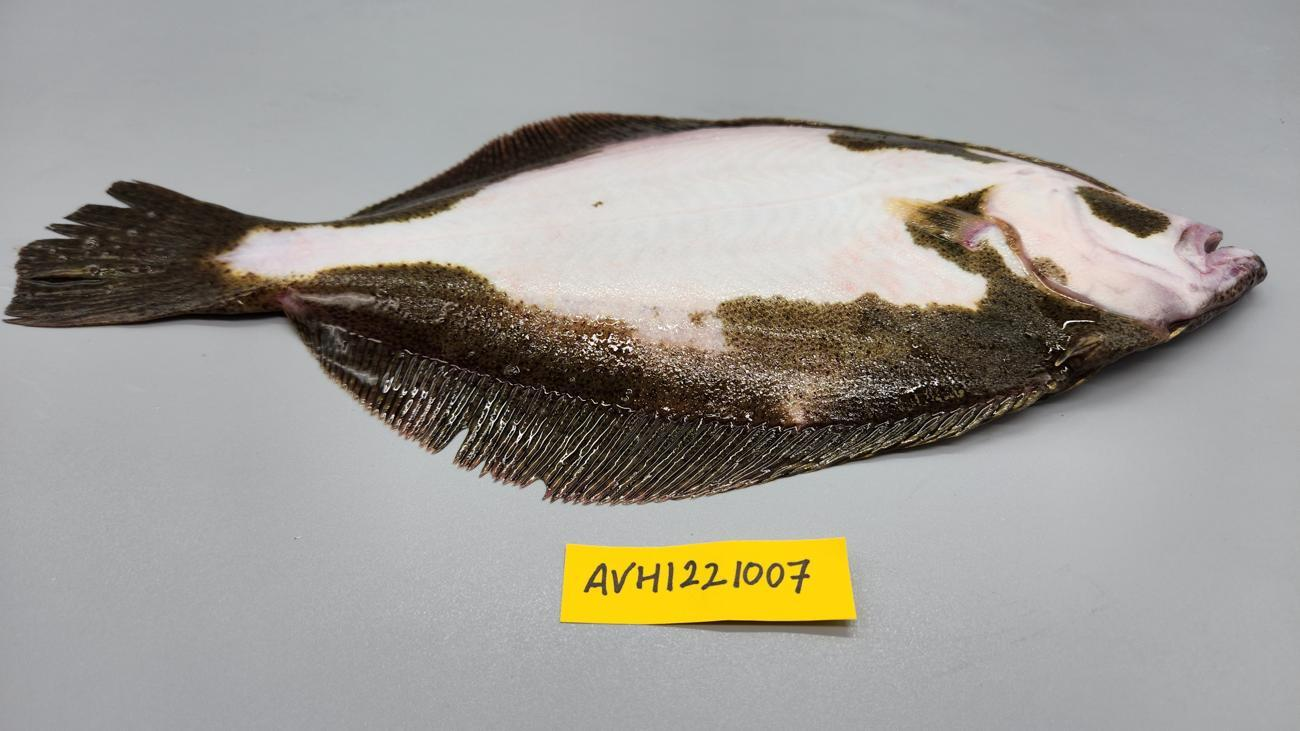VIDYH: (215, 225, 321, 318)
VIOUY: (12, 96, 1265, 506)
